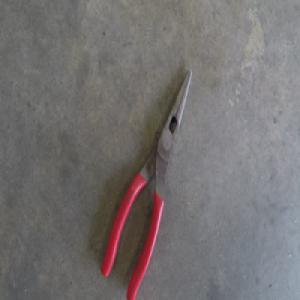Pliers: (101, 69, 192, 293)
